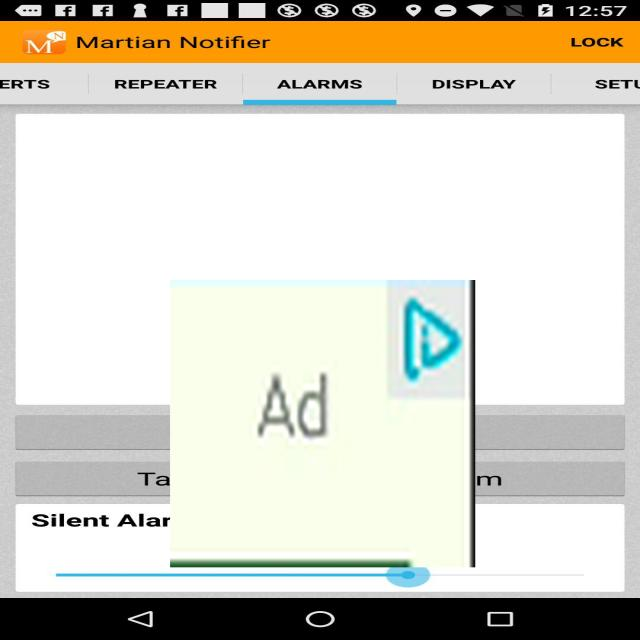sneaking: (170, 280, 475, 567)
